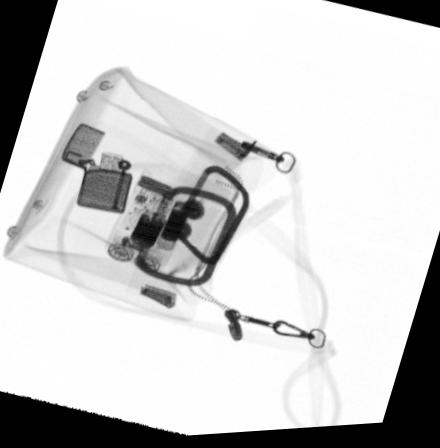Lighter: (59, 123, 132, 216)
